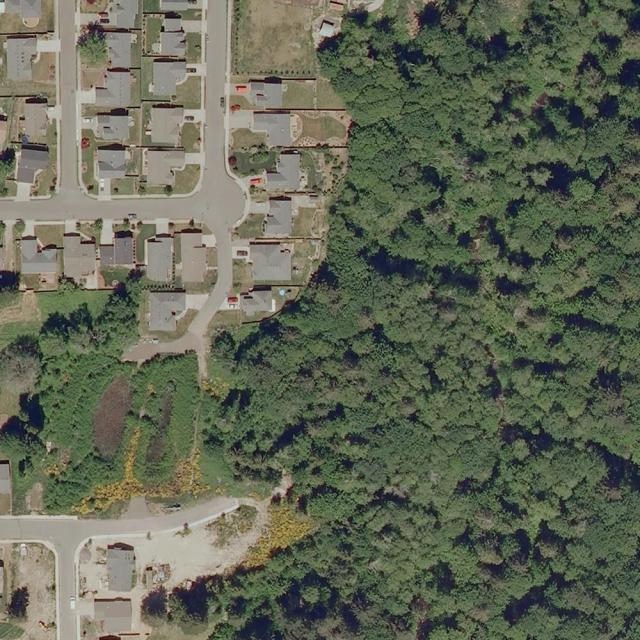building: (62, 232, 96, 289), (16, 140, 51, 187), (148, 289, 187, 331), (146, 146, 186, 186), (251, 242, 291, 282), (180, 227, 207, 284), (106, 542, 136, 592), (20, 235, 58, 274), (94, 597, 133, 634), (151, 104, 184, 146), (95, 68, 130, 107), (252, 111, 291, 146), (266, 151, 300, 190), (6, 35, 36, 79), (152, 58, 186, 96), (146, 234, 172, 282), (264, 196, 291, 238), (96, 144, 127, 179), (248, 77, 283, 108), (96, 109, 129, 140), (24, 97, 48, 138), (106, 30, 131, 68), (240, 286, 271, 316), (108, 0, 139, 29), (112, 231, 134, 265), (159, 31, 187, 56), (99, 244, 114, 266)
dryland: (111, 520, 259, 585), (233, 0, 318, 76), (0, 542, 56, 639), (281, 77, 344, 109)
greenland: (0, 271, 199, 514), (189, 442, 282, 513), (234, 495, 309, 568), (170, 379, 210, 495), (75, 22, 108, 68)
metalled_road: (0, 496, 241, 560), (0, 190, 246, 229), (185, 224, 247, 349), (56, 552, 75, 640)
